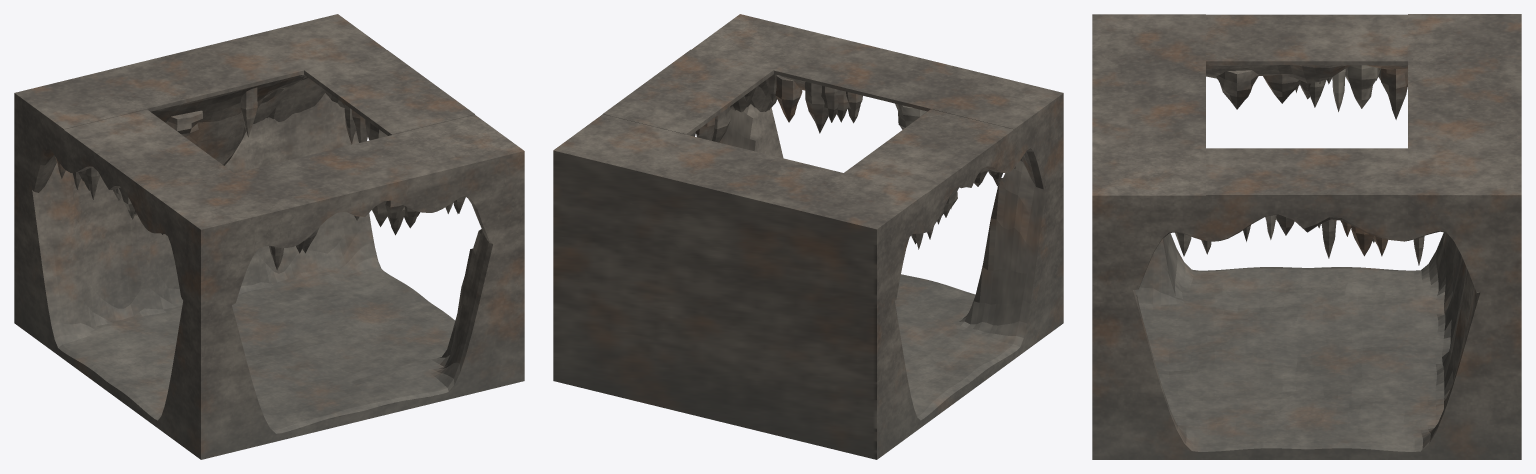
Rendered from dungeon_cave_wall.glb.
3 renders of one model, left to right at view 1: azimuth 30°, elevation 25°; view 2: azimuth 150°, elevation 25°; view 3: azimuth 270°, elevation 25°, orthographic. The views are drawn at different scales.
Parts seen in each view (by area): view 1: dungeon_cave_wall; view 2: dungeon_cave_wall; view 3: dungeon_cave_wall.
Boxes of the visible parts, box(x1,y1,x2,y2) form: dungeon_cave_wall: box(14, 14, 524, 459); dungeon_cave_wall: box(553, 14, 1063, 459); dungeon_cave_wall: box(1092, 14, 1521, 459).
Size of the model in its own units: 5.05 by 3.45 by 5.05.
1 material, 1 textured.
